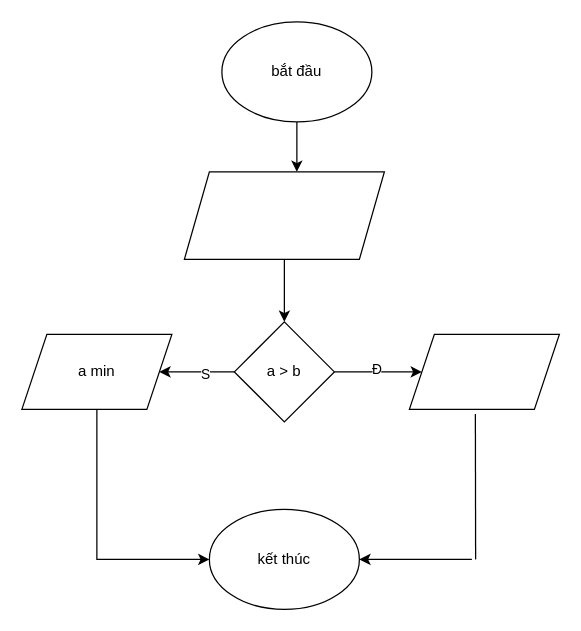
The diagram is 581 pixels wide and 631 high, and some of its shapes have lost their labels. Here are the shapes that lost their labels. From the top down, the centre of each, then its label:
pixel 283 215: nhập 2 số nguyên a, b
pixel 483 371: b min
